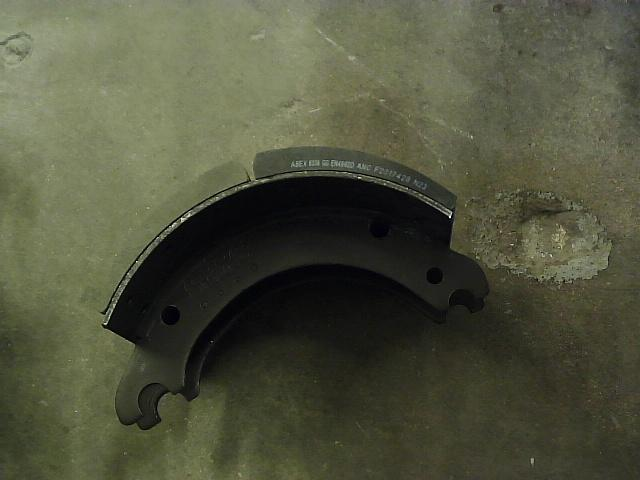brake-shoes: (97, 144, 488, 429)
